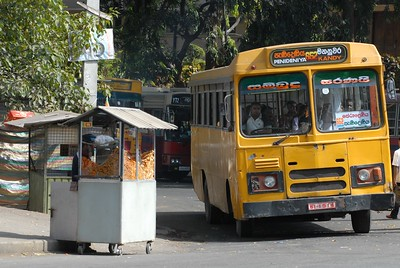bus: (189, 41, 394, 234)
